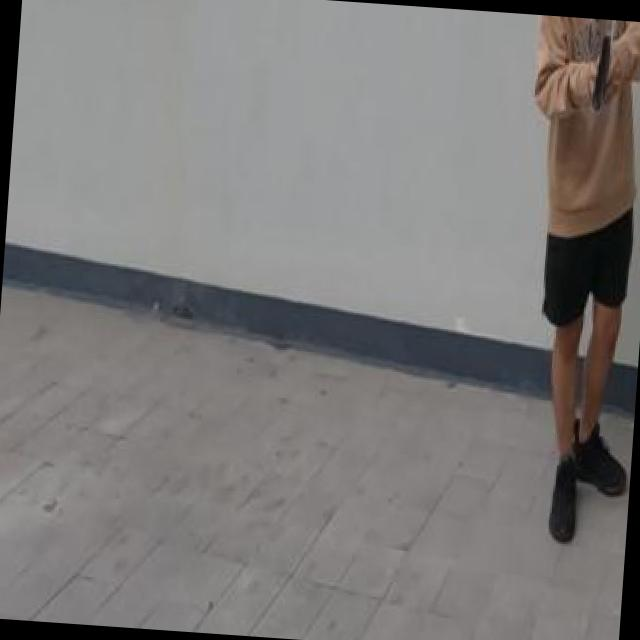Guns: (581, 18, 624, 116)
